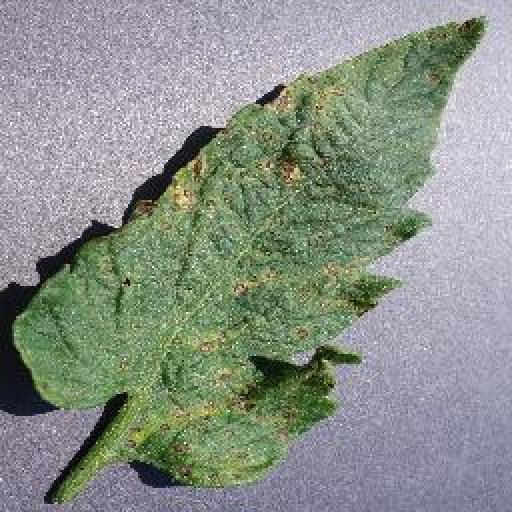Septoria: (17, 14, 488, 494)
